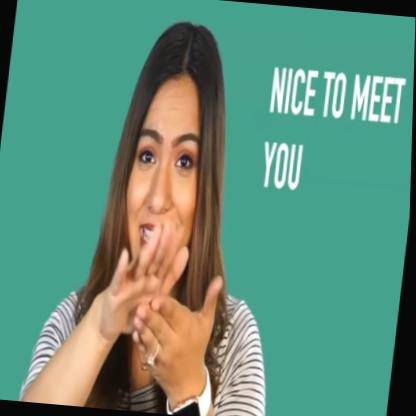NiceToMeetYou: (92, 190, 231, 400)
